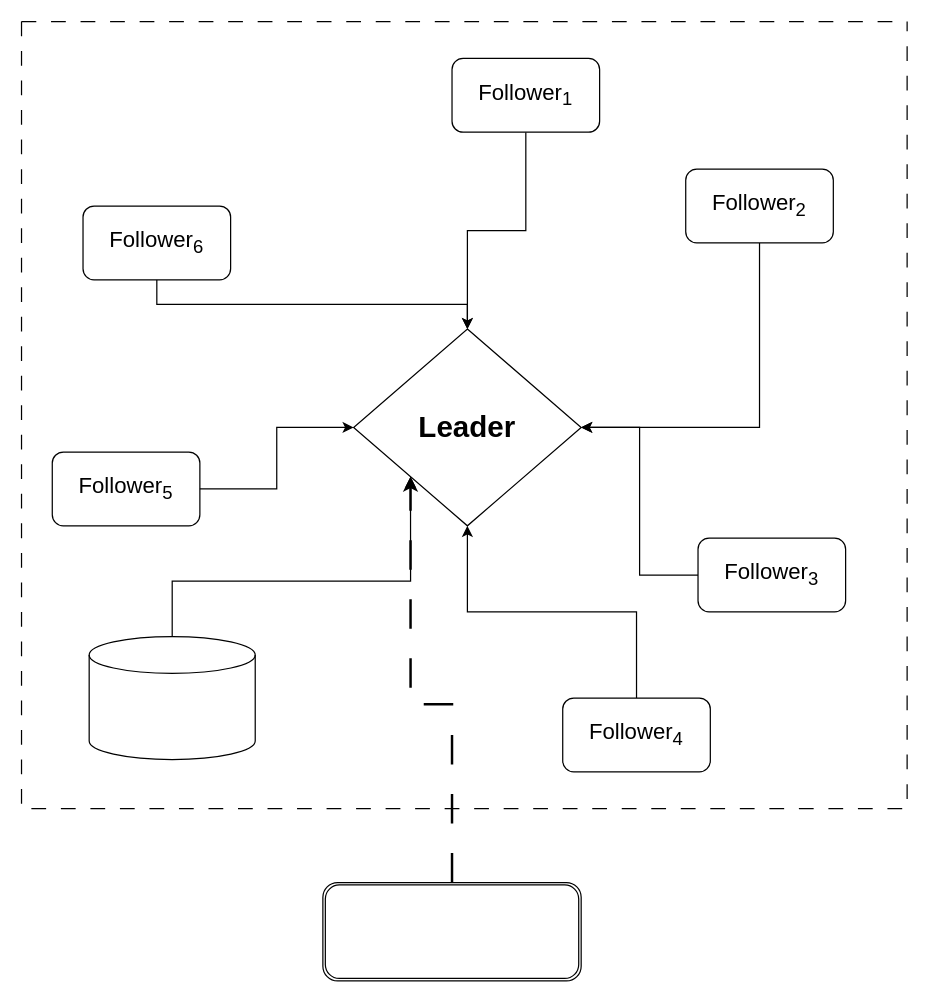
Some shapes in this 929 by 1002 pixel diagram are drawn without their labels. The box of each missing label's shape, as (x1, y1, x2, y2) in pixels:
Balancer: (322, 881, 581, 981)
InfoDB: (88, 635, 255, 760)
